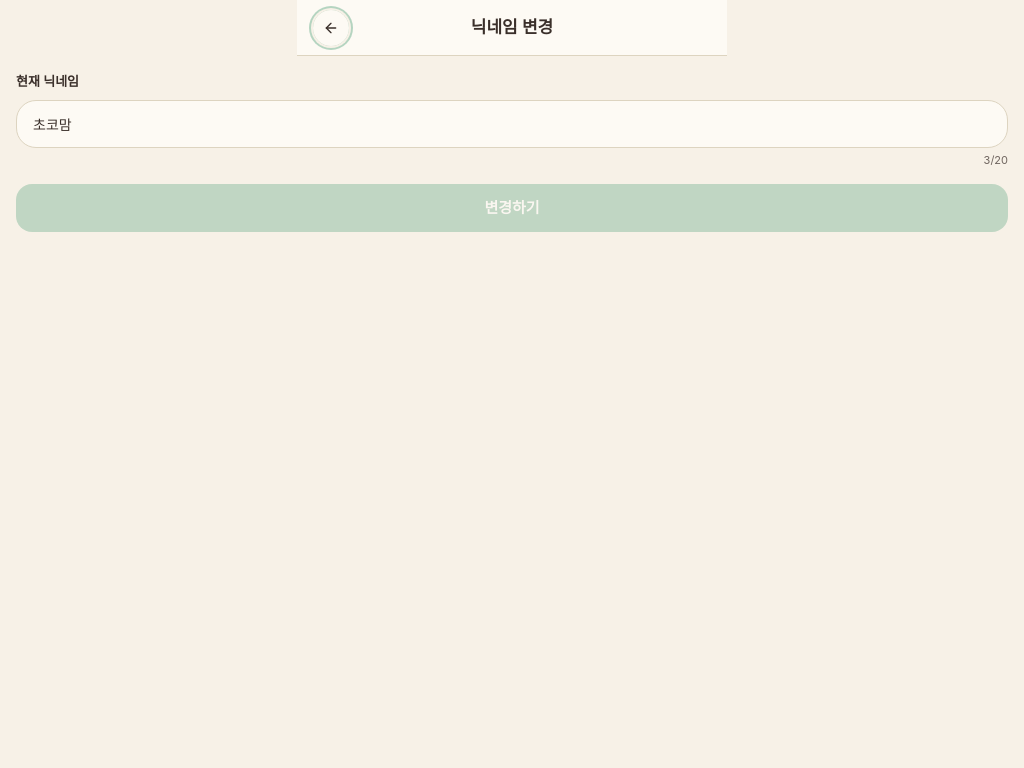
Test case: ProfileRoute › opens nickname settings and updates the visible nickname
Earlier steps of the test are not shown.
Replace the text in the field labelled "현재 닉네임" with "새닉네임" at point(512, 124), box left=16, top=100, right=1008, bottom=148
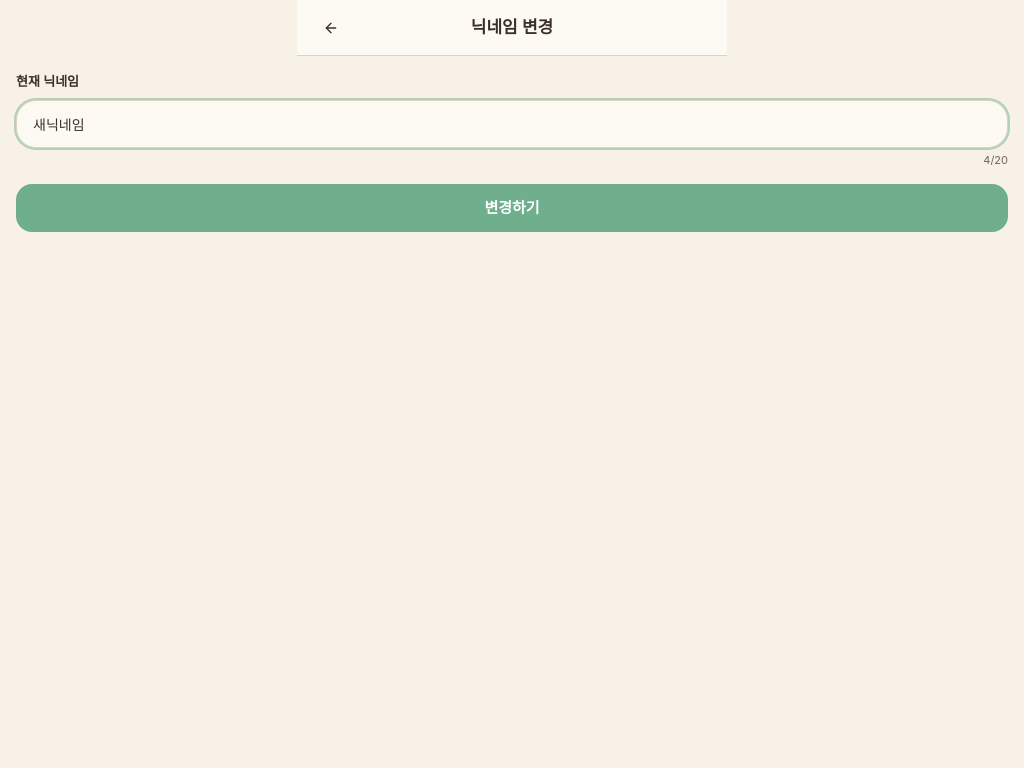
Click the button "변경하기" at point(512, 208), box left=16, top=184, right=1008, bottom=232
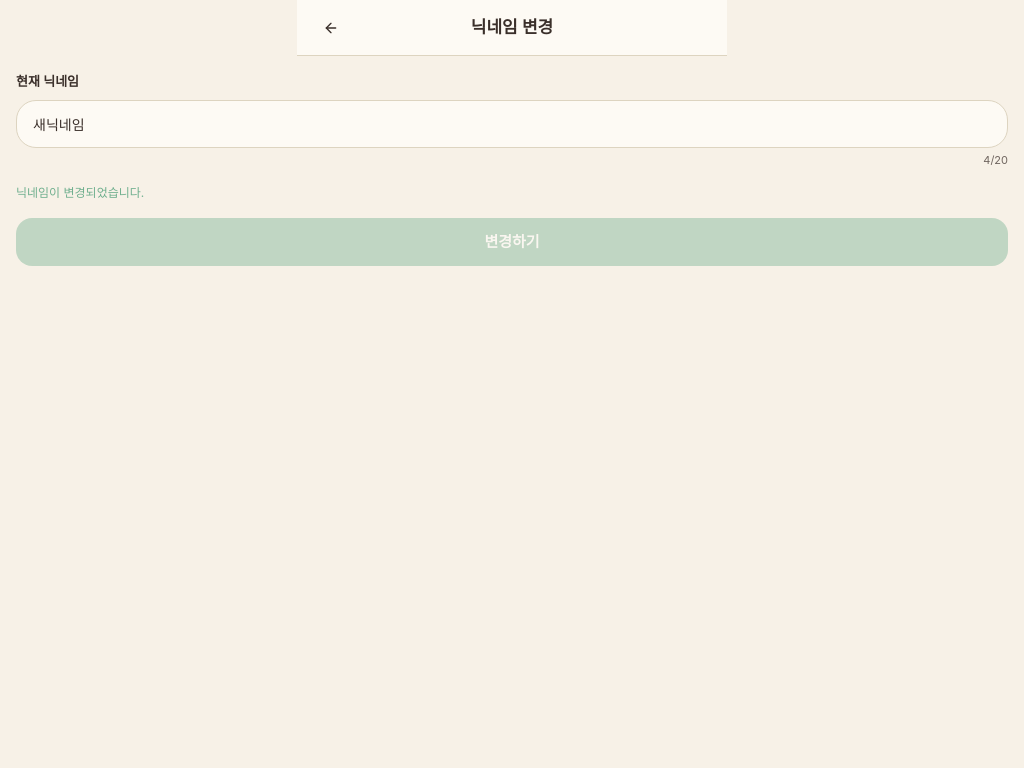
Now the text "닉네임이 변경되었습니다." is shown, box left=16, top=185, right=144, bottom=200
